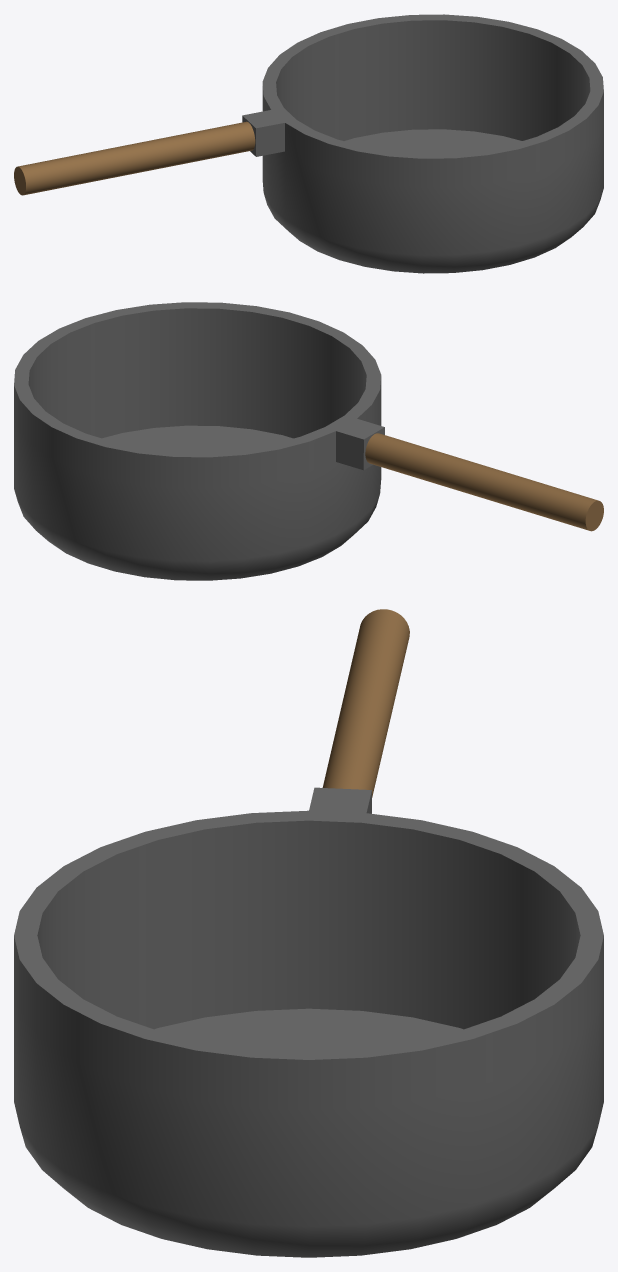
Rendered from Panci.fbx.
The picture shows the model from 3 angles, top to bottom: view 1: azimuth 30°, elevation 25°; view 2: azimuth 150°, elevation 25°; view 3: azimuth 270°, elevation 25°; orthographic projection. The views are drawn at different scales.
Visible parts, largest first — view 1: panci; view 2: panci; view 3: panci.
Boxes of the visible parts, <box> form: panci: <box>14,14,603,273</box>; panci: <box>14,302,603,580</box>; panci: <box>14,609,603,1257</box>.
Bounding box in the file's own units: 210 × 45.18 × 115.
